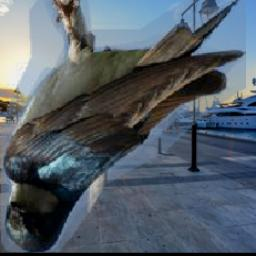Swallow: (2, 0, 247, 252)
